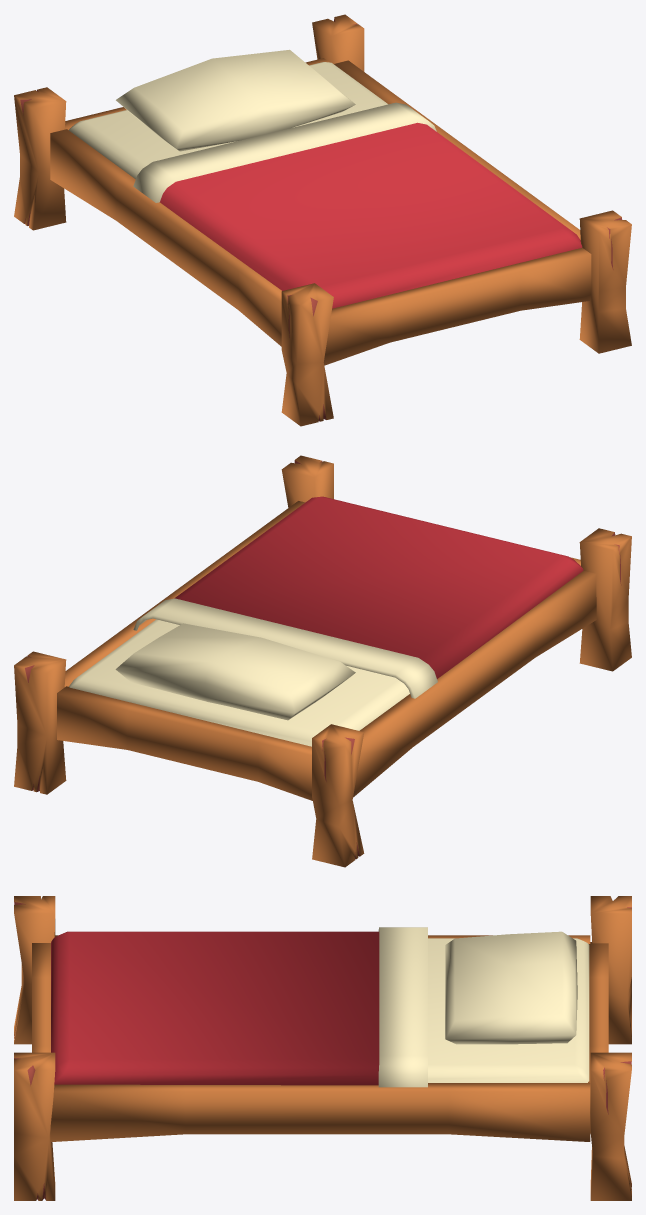
Rendered from bed.glb.
3 views of the same model, one above another, from view 1: azimuth 30°, elevation 25°; view 2: azimuth 150°, elevation 25°; view 3: azimuth 270°, elevation 25° (orthographic). The views are drawn at different scales.
Parts seen in each view (by area): view 1: Cover, Pillow, Cube.006, Cube.005, Cube.008, Cube.002, Cube.003, Matress, Cube.001, Cube.004; view 2: Cover, Pillow, Cube.007, Cube.005, Matress, Cube.001, Cube.003, Cube.008, Cube.004, Cube.002; view 3: Cover, Cube.004, Pillow, Matress, Cube.002, Cube.001, Cube.003, Cube.008, Cube.007, Cube.006.
Boxes of the visible parts, x1,y1,x2,y2 form: Cover: [133, 102, 582, 308]; Pillow: [116, 49, 355, 151]; Cube.006: [323, 247, 591, 365]; Cube.005: [50, 129, 281, 346]; Cube.008: [281, 283, 333, 426]; Cube.002: [579, 210, 631, 353]; Cube.003: [14, 87, 66, 230]; Matress: [69, 62, 387, 179]; Cube.001: [312, 14, 364, 71]; Cube.004: [334, 60, 580, 239]; Cover: [133, 496, 583, 698]; Pillow: [115, 623, 355, 720]; Cube.007: [57, 686, 312, 800]; Cube.005: [353, 570, 596, 797]; Matress: [69, 619, 409, 746]; Cube.001: [14, 651, 66, 794]; Cube.003: [312, 724, 364, 867]; Cube.008: [579, 528, 631, 671]; Cube.004: [64, 501, 305, 686]; Cube.002: [281, 455, 333, 507]; Cover: [51, 927, 427, 1087]; Cube.004: [50, 1083, 590, 1141]; Pillow: [445, 931, 577, 1044]; Matress: [428, 938, 589, 1082]; Cube.002: [14, 1052, 55, 1200]; Cube.001: [590, 1052, 631, 1200]; Cube.003: [590, 896, 631, 1044]; Cube.008: [14, 896, 55, 1044]; Cube.007: [588, 942, 608, 1133]; Cube.006: [32, 943, 50, 1052].
Bounding box in the file's own units: 2 × 0.8151 × 3.
Materials: 1 (1 with a texture image).
